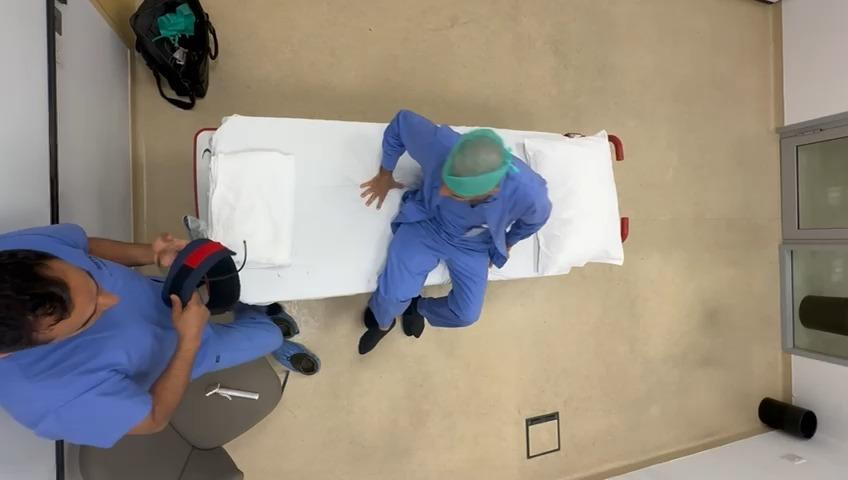bed: (197, 119, 631, 306)
prepstick: (205, 383, 258, 401)
tourniquet: (162, 238, 234, 306)
